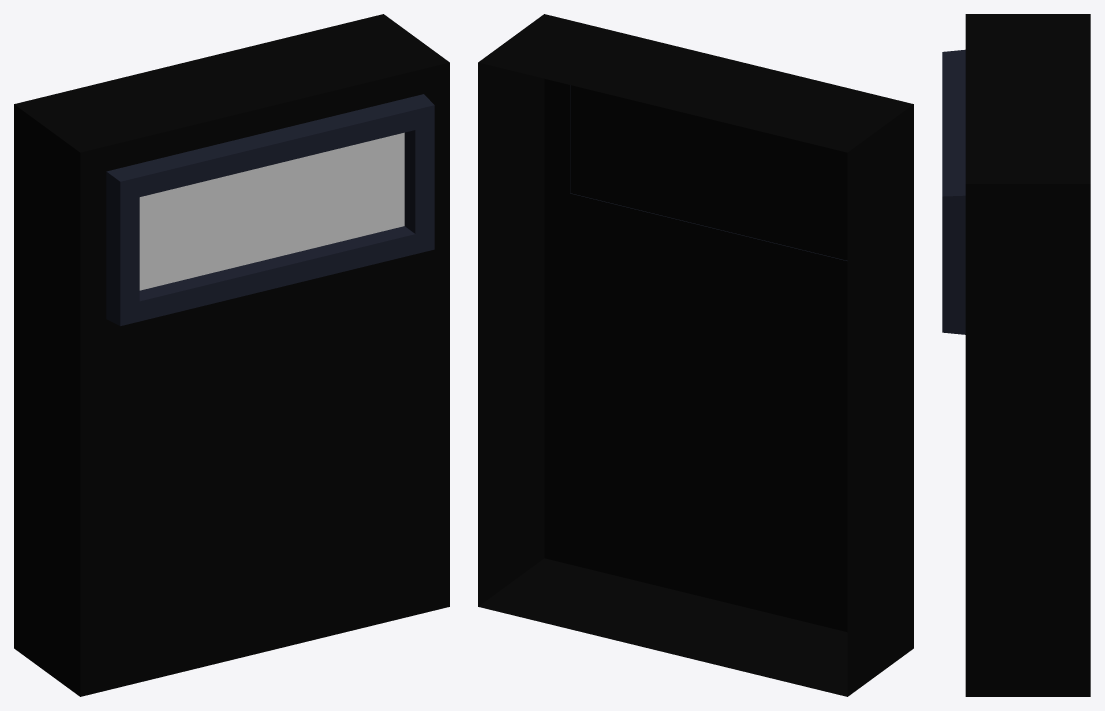
Rendered from keypadCofre.fbx.
3 renders of one model, left to right at view 1: azimuth 30°, elevation 25°; view 2: azimuth 150°, elevation 25°; view 3: azimuth 270°, elevation 25°, orthographic. The views are drawn at different scales.
Visible parts, largest first — view 1: Keypad; view 2: Keypad; view 3: Keypad.
Boxes of the visible parts, x1,y1,x2,y2 form: Keypad: [14, 14, 449, 696]; Keypad: [478, 14, 913, 696]; Keypad: [942, 14, 1090, 696].
Size of the model in its own units: 29.3 by 41.22 by 10.8.
